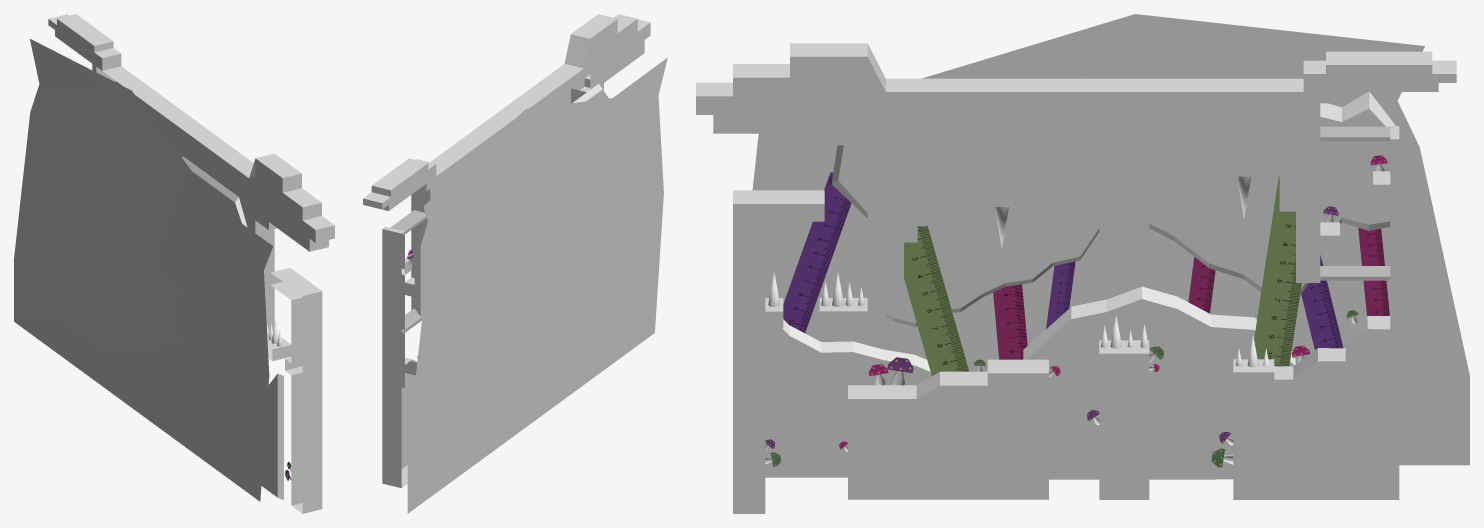
File: Pantalla6-DEF.fbx
3 renders of one model, left to right at view 1: azimuth 30°, elevation 25°; view 2: azimuth 150°, elevation 25°; view 3: azimuth 270°, elevation 25°, orthographic. The views are drawn at different scales.
Visible parts, largest first — view 1: Plane.047, Pantalla6, Plane.019; view 2: Plane.047, Pantalla6, Plane.019, Cube.002; view 3: Pantalla6, Plane.019, Plane.047, regla rosa.002, regla rosa.001, regla rosa.008, regla rosa.003, regla rosa.006, regla rosa.007, regla rosa.005, Cube.002, Cube.001 (+1 smaller).
Part boxes in pixels (<box>): Plane.047: <box>14,39,272,501</box>; Pantalla6: <box>48,14,334,513</box>; Plane.019: <box>182,156,283,500</box>; Plane.047: <box>407,57,667,513</box>; Pantalla6: <box>363,14,650,488</box>; Plane.019: <box>414,84,608,316</box>; Cube.002: <box>390,210,426,236</box>; Pantalla6: <box>696,43,1456,513</box>; Plane.019: <box>765,92,1395,479</box>; Plane.047: <box>752,14,1469,465</box>; regla rosa.002: <box>1254,176,1301,366</box>; regla rosa.001: <box>904,226,969,375</box>; regla rosa.008: <box>783,172,851,332</box>; regla rosa.003: <box>993,284,1027,359</box>; regla rosa.006: <box>1301,255,1343,349</box>; regla rosa.007: <box>1358,227,1389,315</box>; regla rosa.005: <box>1046,261,1075,328</box>; Cube.002: <box>1320,126,1390,141</box>; Cube.001: <box>1320,266,1390,280</box>.
Size of the model in its own units: 1016 by 6205 by 9344.
